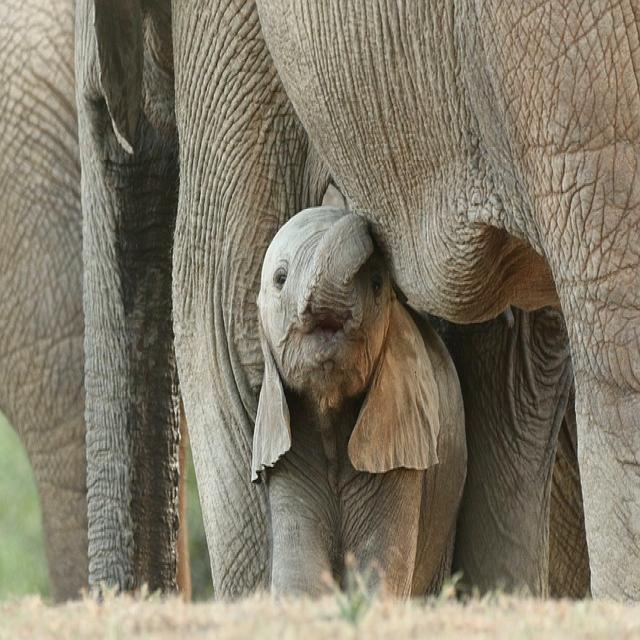Herbivorous: (253, 0, 640, 618), (253, 206, 470, 600)
